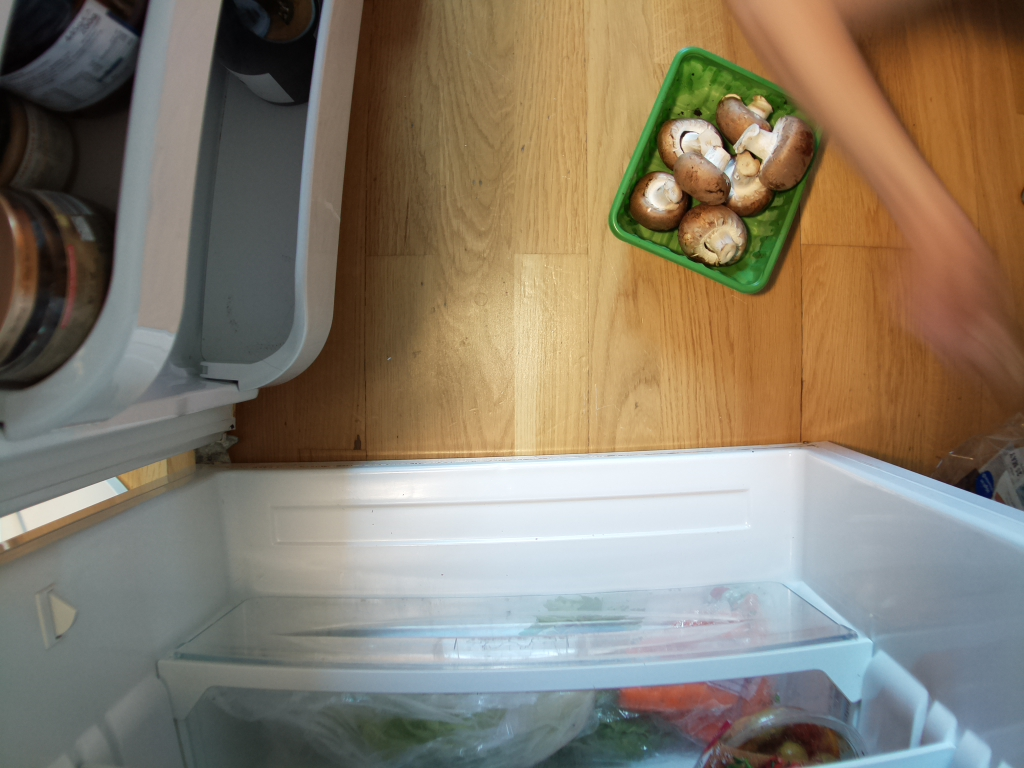mushrooms: (606, 39, 832, 302)
